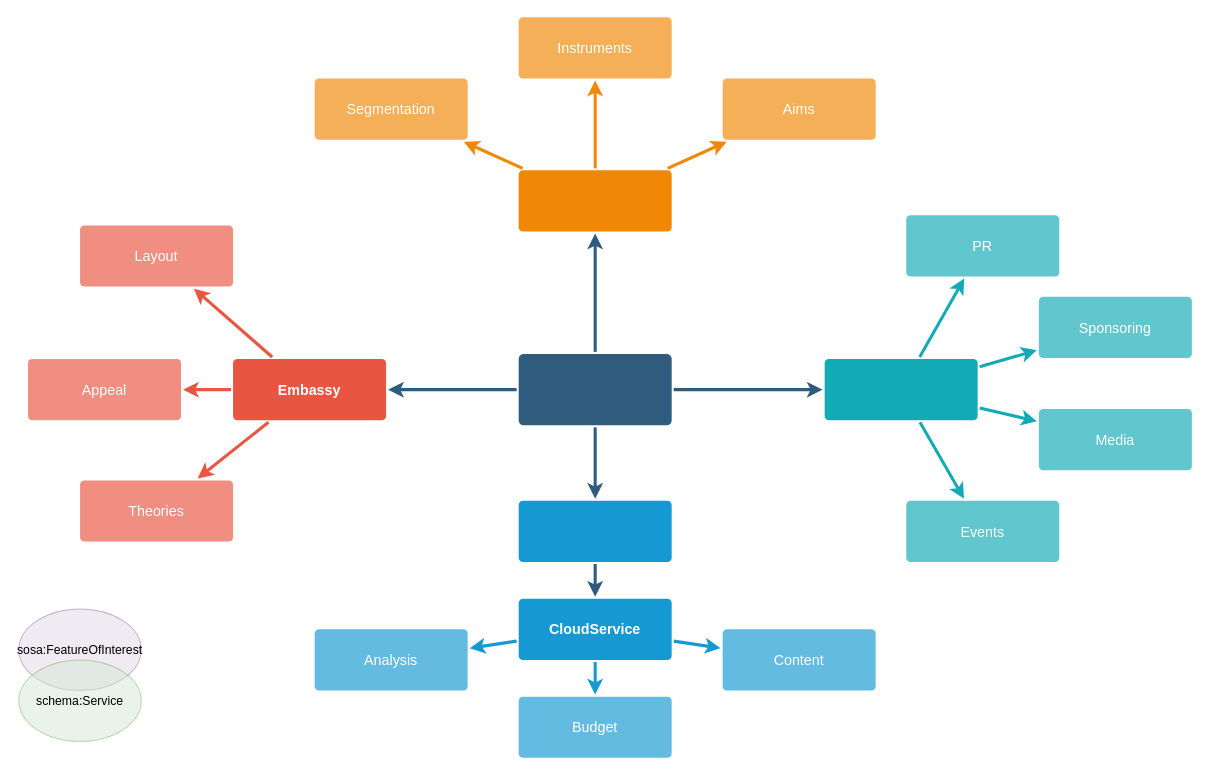
Some shapes in this 1210 by 775 pixel diagram are drawn without their labels. Each missing label, with the centre of its shape:
Communication: point 900,389
Marketing: point 594,200
Service: point 594,531
Thing: point 594,389
